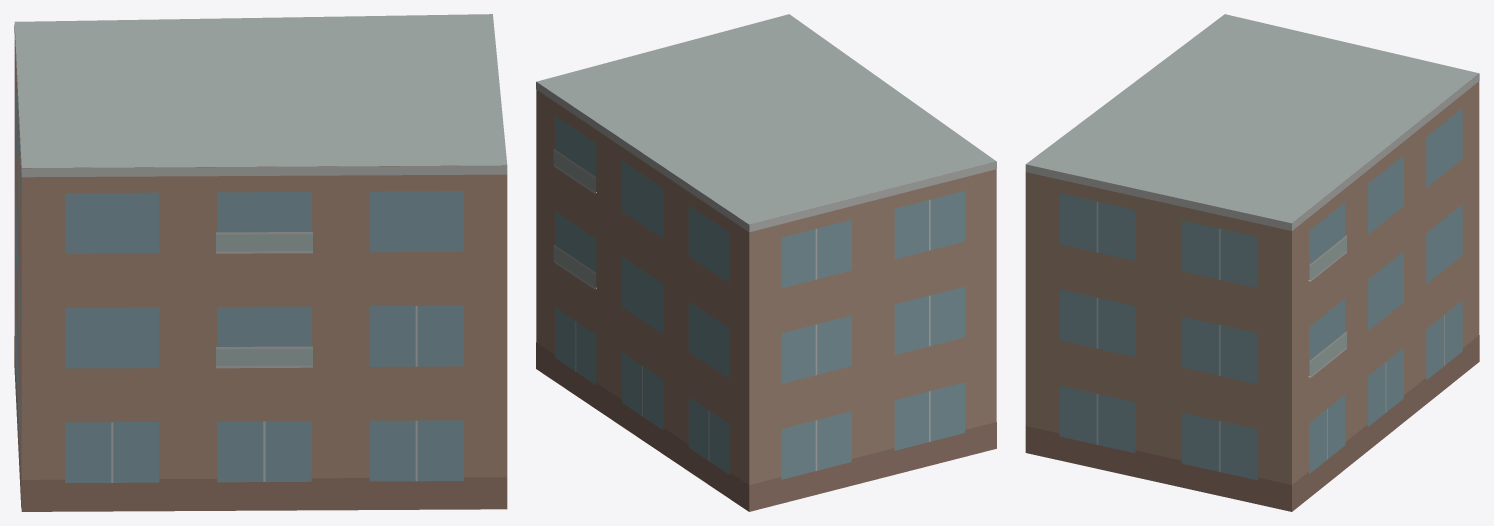
Rendered from survey-upis-32979453.glb.
3 views of the same model, side by side, from view 1: azimuth 30°, elevation 25°; view 2: azimuth 150°, elevation 25°; view 3: azimuth 270°, elevation 25° (orthographic). The views are drawn at different scales.
Visible parts, largest first — view 1: survey-upis-32979453.tmp; view 2: survey-upis-32979453.tmp; view 3: survey-upis-32979453.tmp.
Part boxes in pixels (bbox=[...]): survey-upis-32979453.tmp: bbox=[14, 14, 507, 511]; survey-upis-32979453.tmp: bbox=[536, 14, 996, 511]; survey-upis-32979453.tmp: bbox=[1025, 14, 1479, 511].
Bounding box in the file's own units: 14.25 × 9.15 × 13.05.
